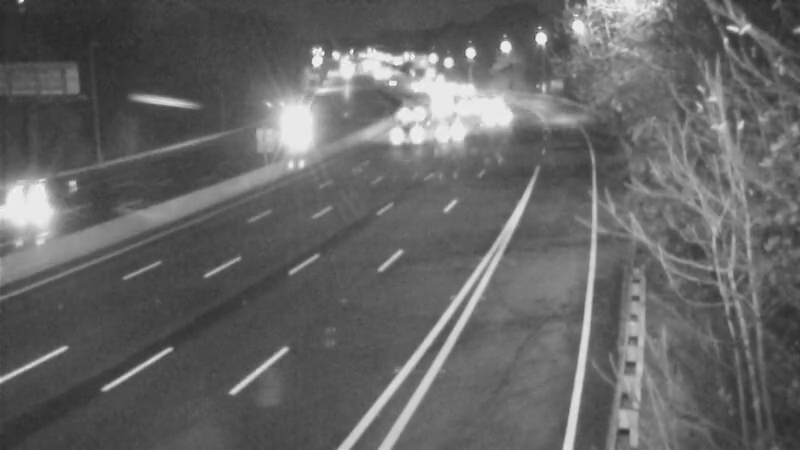vehicle: (1, 156, 78, 236), (462, 75, 512, 125), (439, 84, 489, 134), (388, 84, 438, 134), (468, 94, 518, 144), (432, 102, 482, 152), (382, 109, 432, 159), (271, 94, 321, 144)
